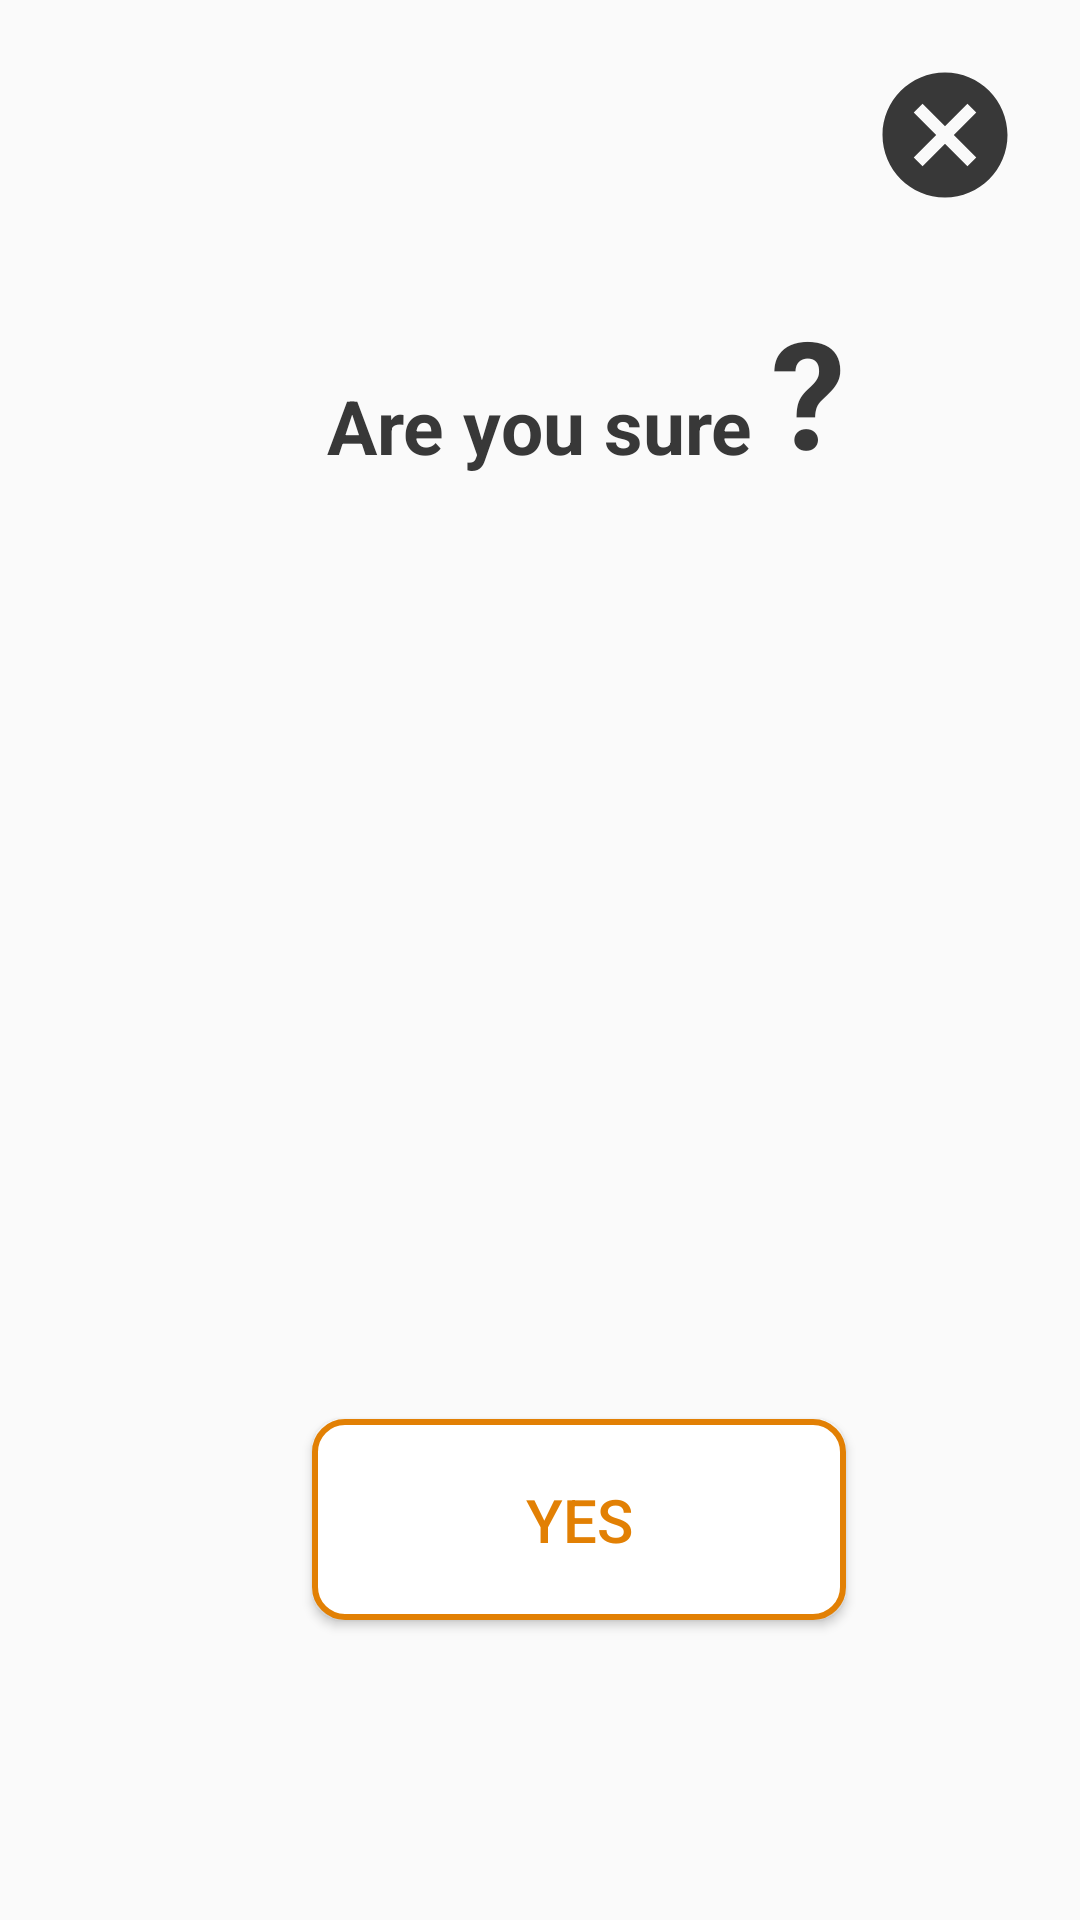

Icons on this 1080px×1920px Android screen, each with its box as {"left": x1, "top": y1, "right": x2, "bottom": y2}:
cancel: {"left": 882, "top": 72, "right": 1008, "bottom": 198}
